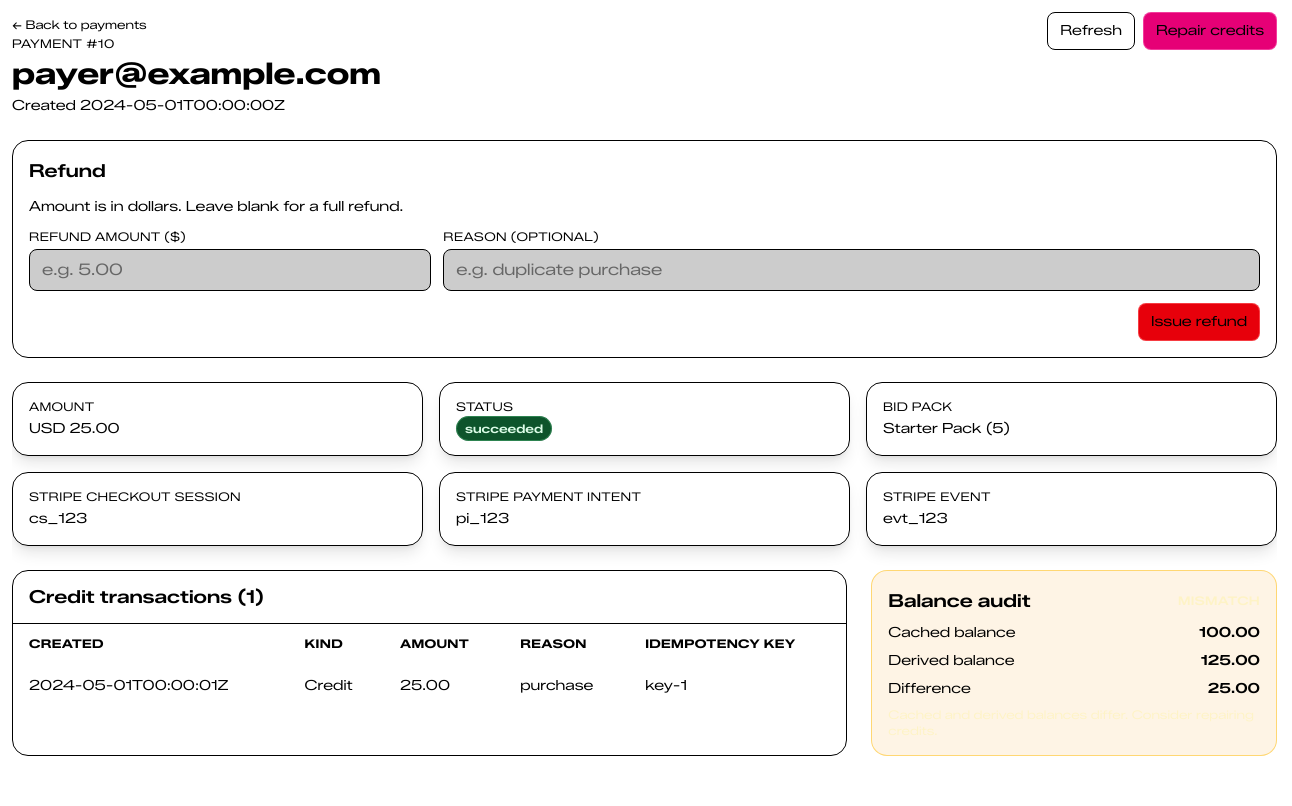
Test: AdminPaymentDetailPage › allows issuing a refund and shows confirmation details
expect the heading "payer@example.com" is shown: met, box [12, 56, 381, 92]
Type "5.00" into the field labelled "Refund amount ($)". click: (230, 270)
box: [29, 249, 431, 291]
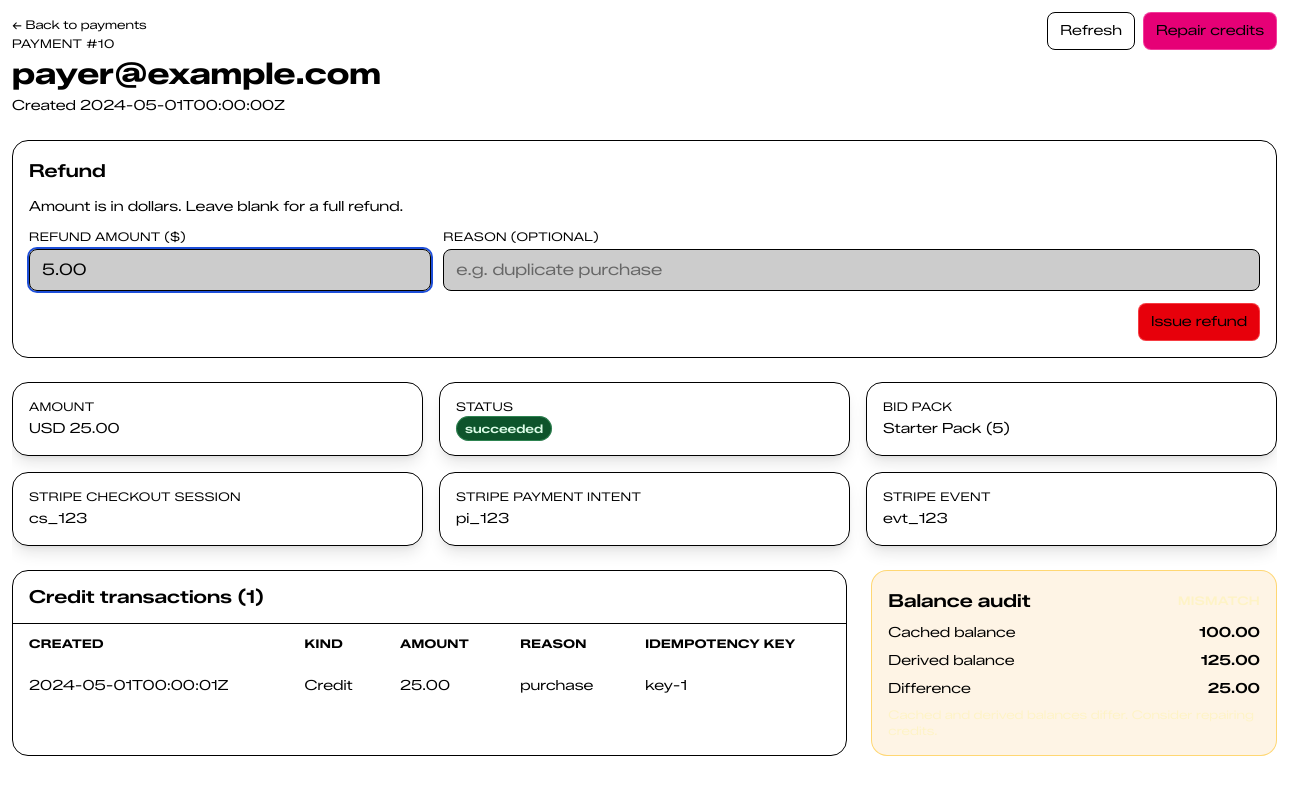
Type " duplicate " into the field labelled "Reason (optional)". click: (852, 270)
box: [443, 249, 1260, 291]
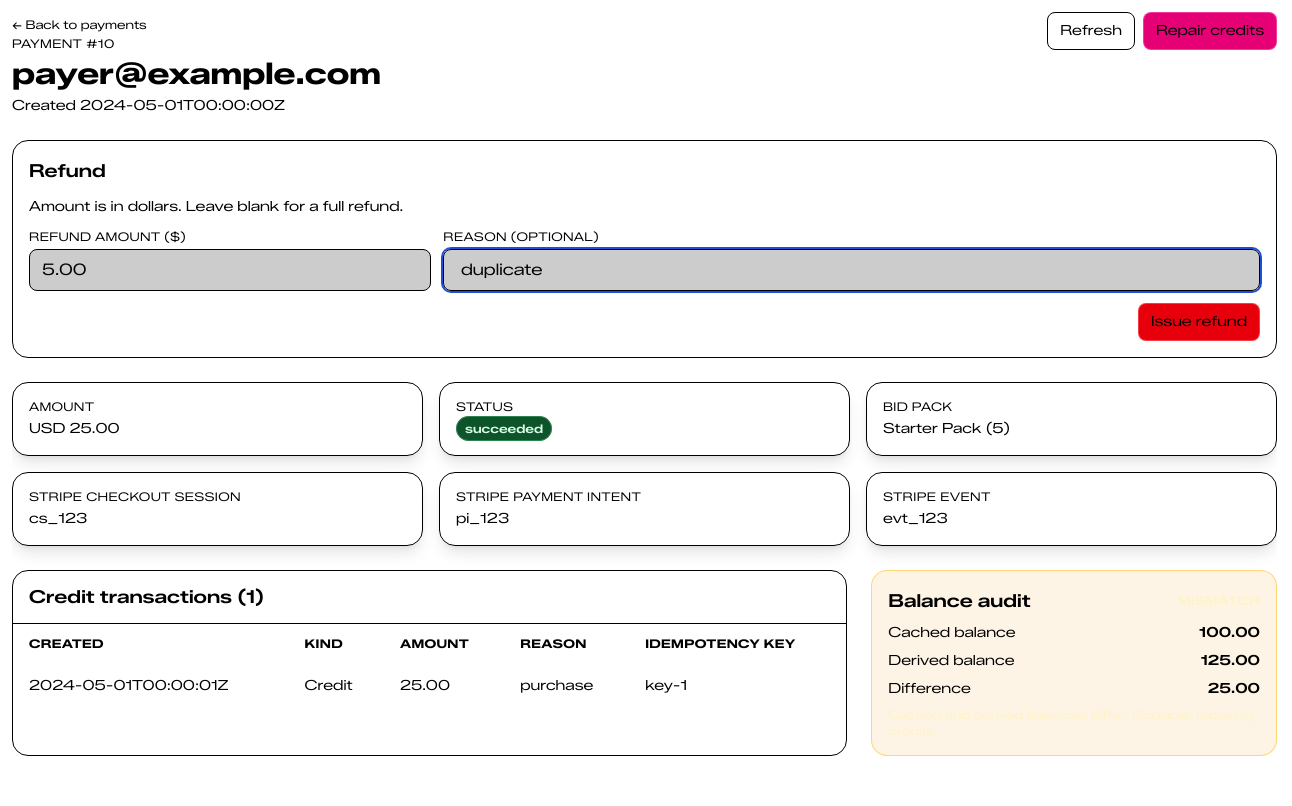
Click the button "Issue refund". click: click(1199, 322)
box: [1138, 303, 1260, 341]
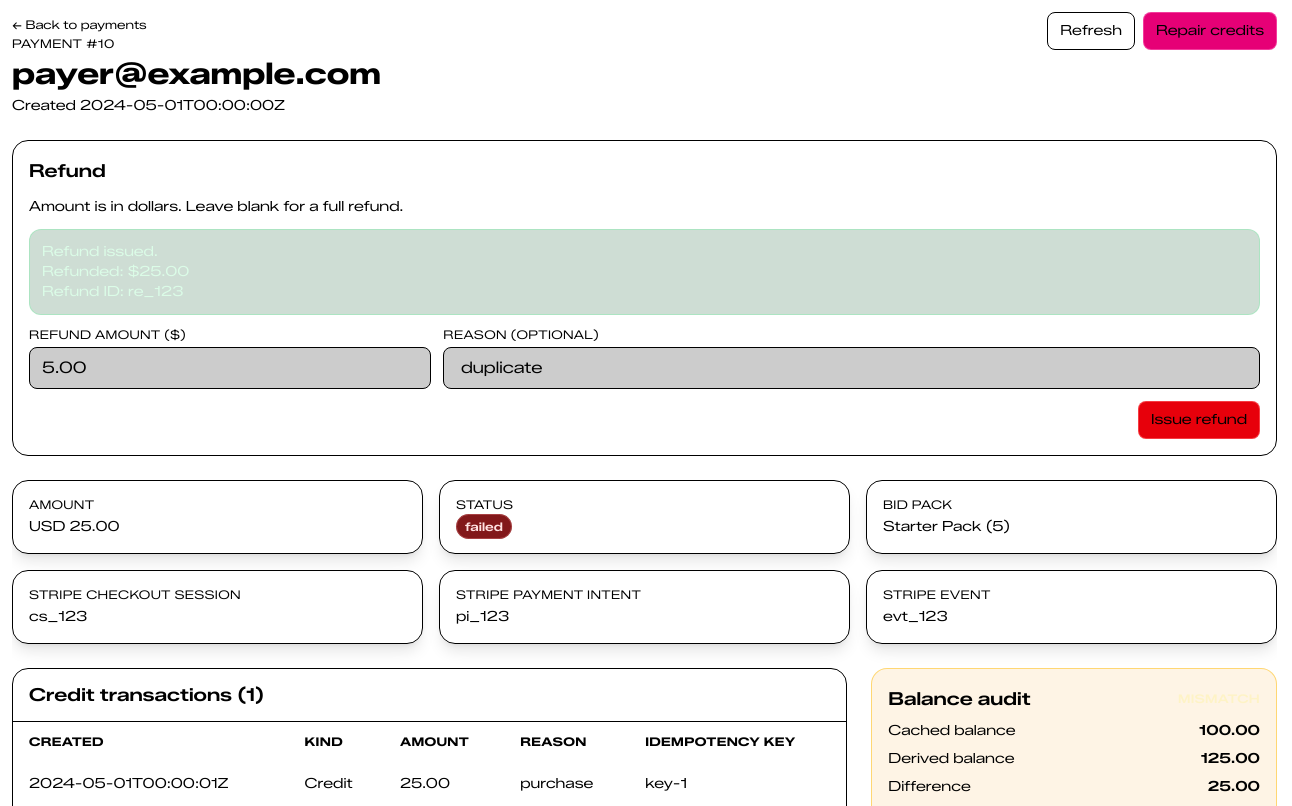
expect the text "Refund issued." is shown: met, box [42, 243, 158, 260]
expect the text "Refunded: $25.00" is shown: met, box [42, 263, 189, 280]
expect the text "Refund ID: re_123" is shown: met, box [42, 283, 184, 300]
